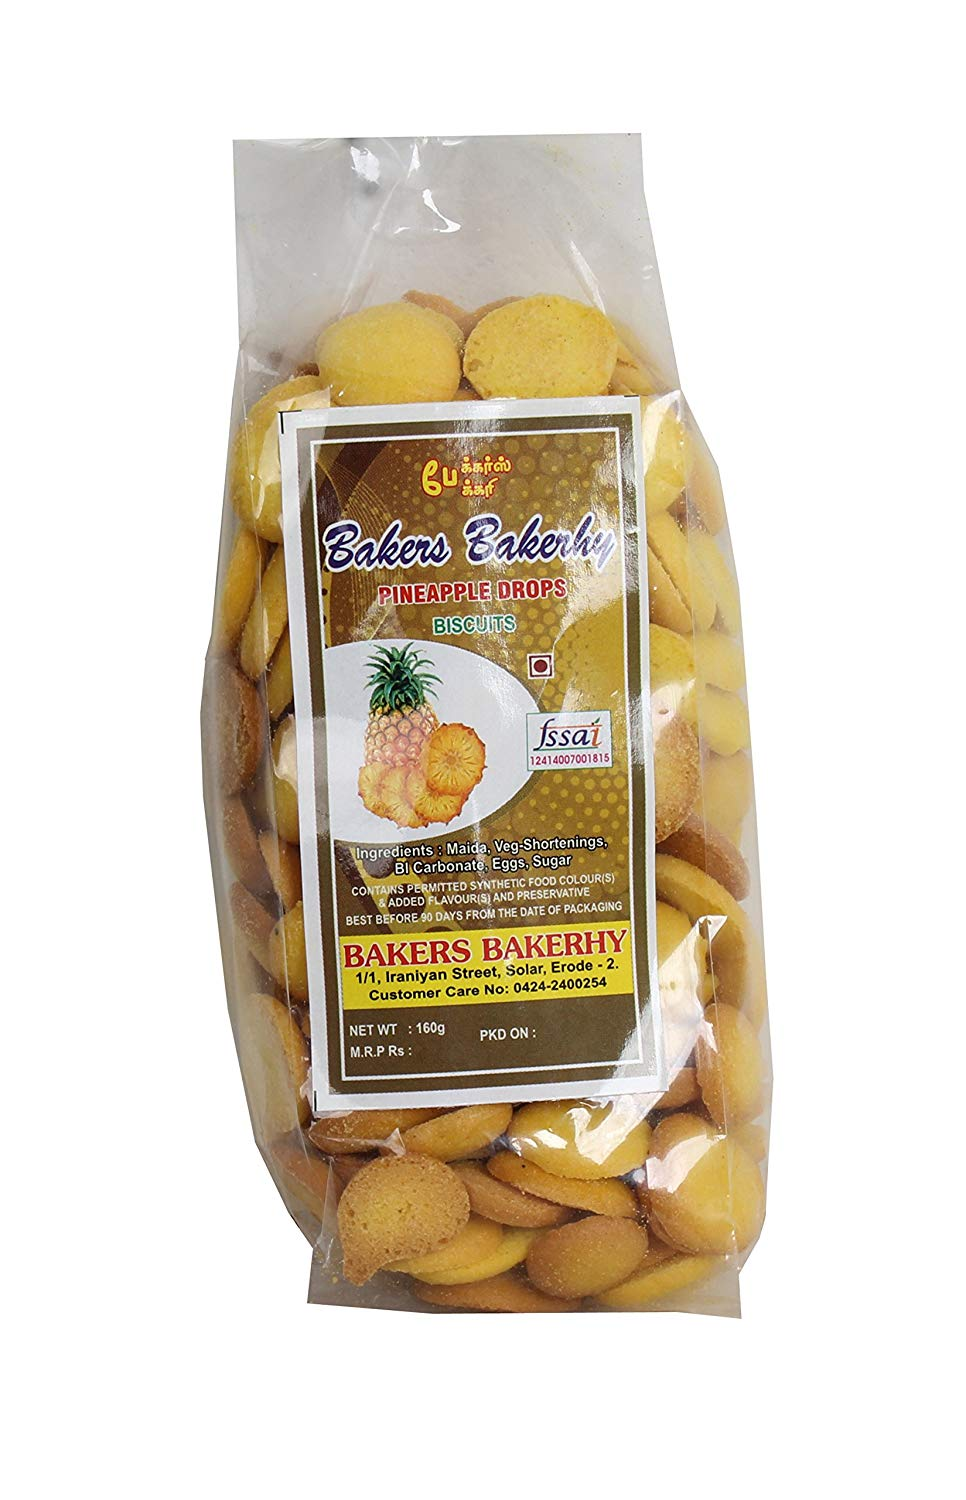nonveg_red: (525, 652, 555, 680)
